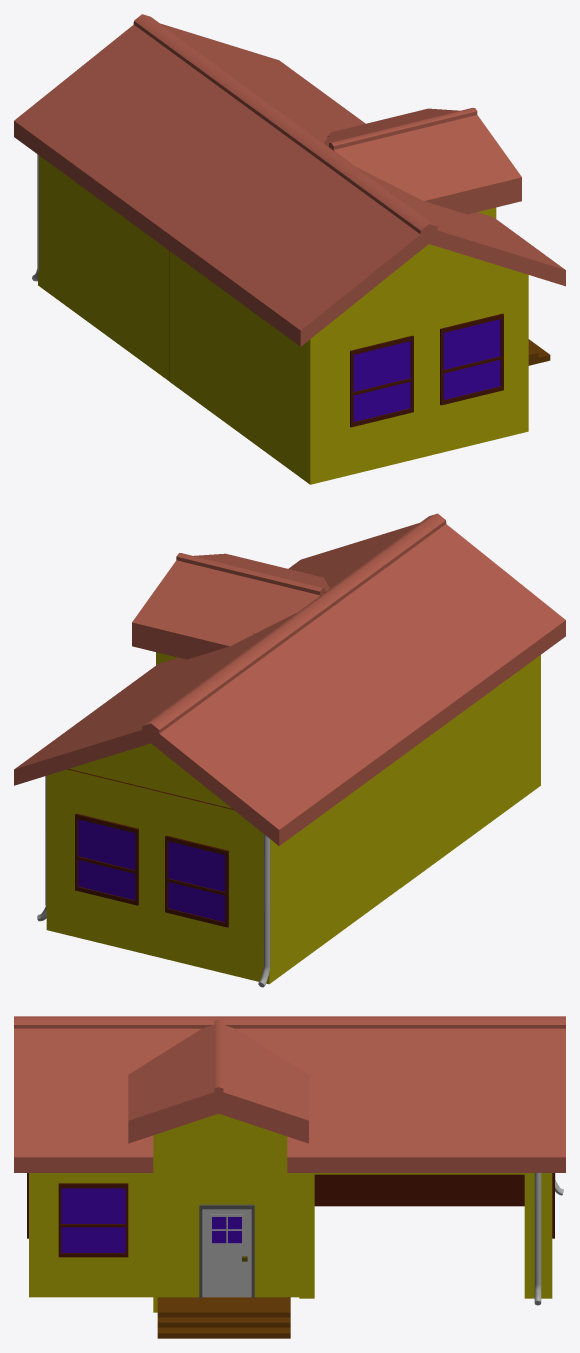
File: ART_MOD_A_REVISEDHOUSE_PROPERMATS.fbx
3 views of the same model, one above another, from view 1: azimuth 30°, elevation 25°; view 2: azimuth 150°, elevation 25°; view 3: azimuth 270°, elevation 25° (orthographic). The views are drawn at different scales.
Visible parts, largest first — view 1: Object013; view 2: Object013; view 3: Object013.
Boxes of the visible parts, x1,y1,x2,y2 form: Object013: [14, 14, 565, 484]; Object013: [14, 513, 565, 987]; Object013: [14, 1016, 565, 1338].
Size of the model in its own units: 1377 by 976 by 2109.
